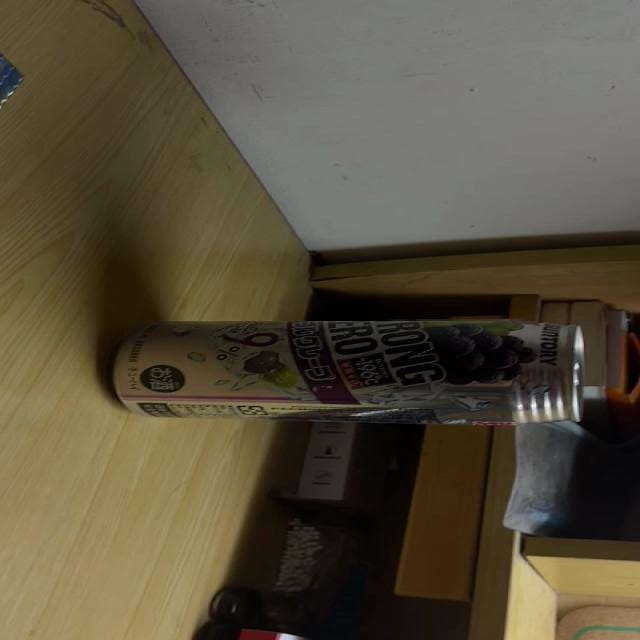Liquor: (102, 316, 588, 422)
